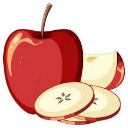apple: (33, 81, 94, 120)
